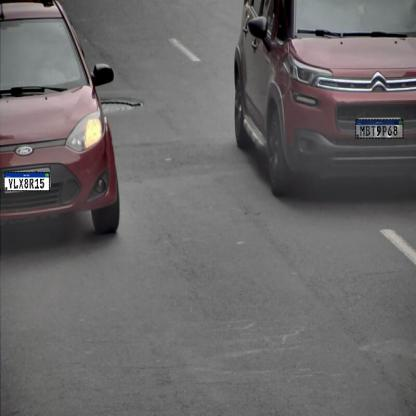PlacaM: (355, 119, 404, 139), (4, 172, 50, 191)
